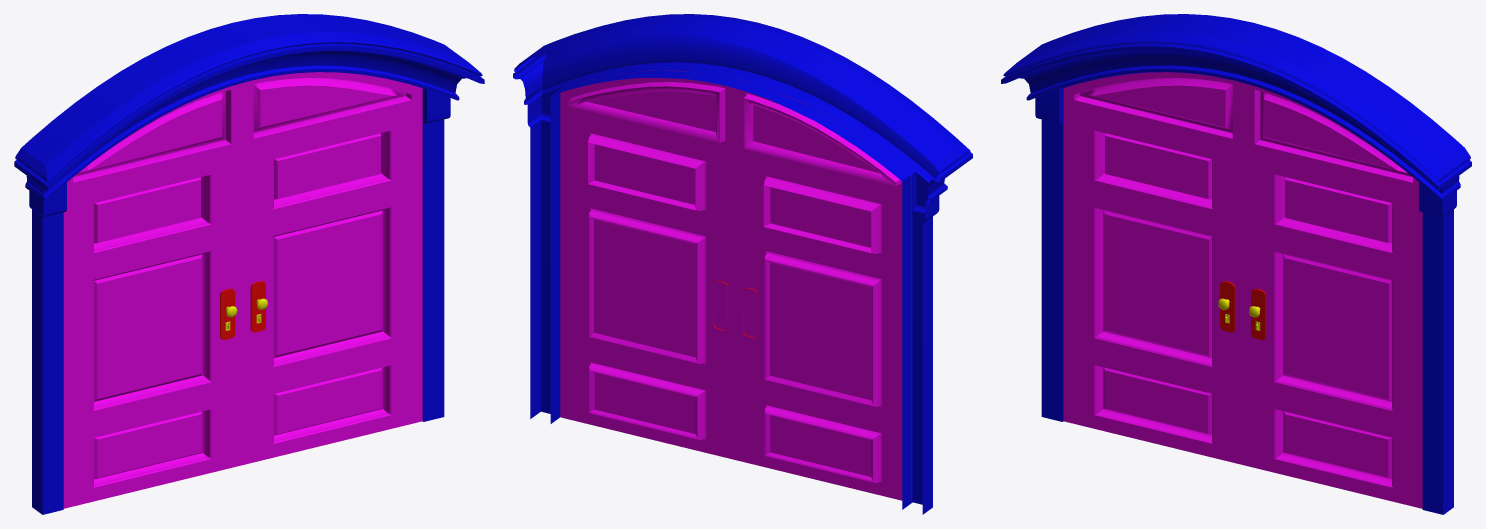
File: Door_B.fbx
The picture shows the model from 3 angles, left to right: view 1: azimuth 30°, elevation 25°; view 2: azimuth 150°, elevation 25°; view 3: azimuth 330°, elevation 25°; orthographic projection. The views are drawn at different scales.
Parts seen in each view (by area): view 1: polySurface6, pCube14, DoorLock; view 2: polySurface6, pCube14; view 3: polySurface6, pCube14, DoorLock.
Boxes of the visible parts, x1,y1,x2,y2 form: polySurface6: (63, 72, 422, 508); pCube14: (14, 14, 484, 514); DoorLock: (220, 281, 265, 339); polySurface6: (560, 70, 911, 502); pCube14: (513, 14, 972, 514); polySurface6: (1063, 72, 1422, 508); pCube14: (1001, 14, 1471, 514); DoorLock: (1220, 281, 1266, 339).
Bounding box in the file's own units: 3.15 × 2.99 × 0.4173.
